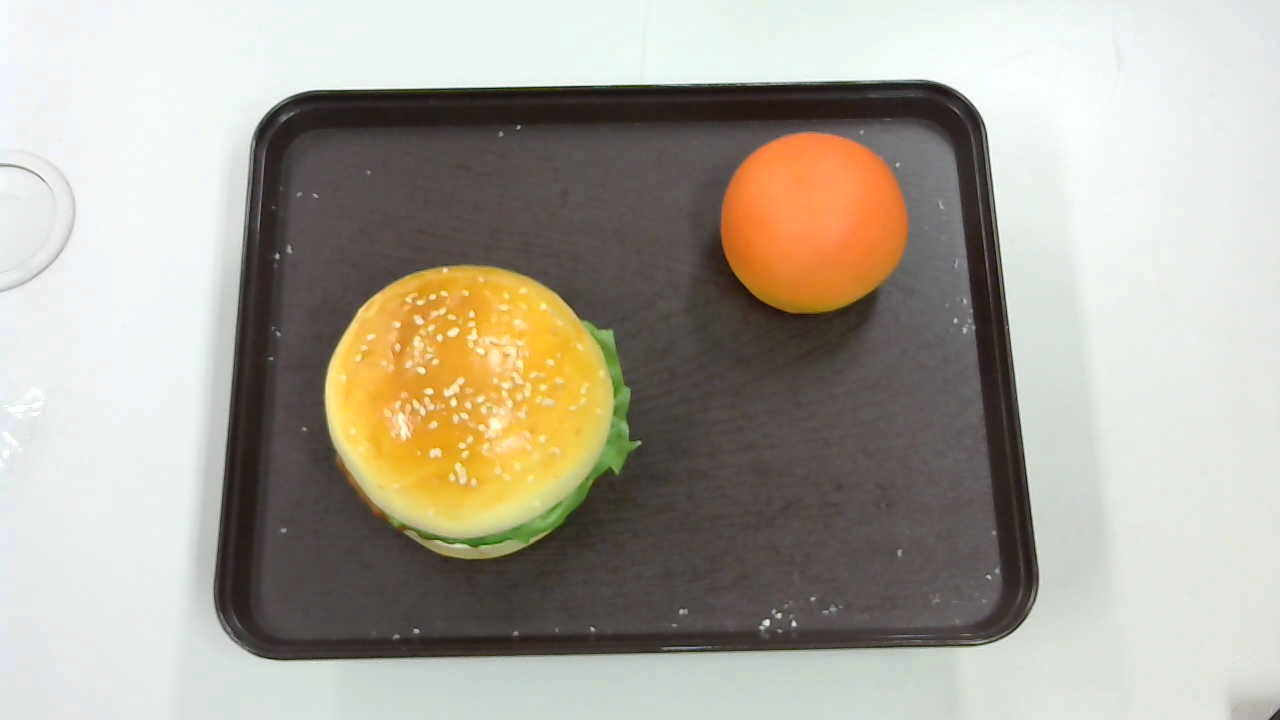bun: (721, 132, 908, 313)
hamburger: (324, 264, 642, 561)
